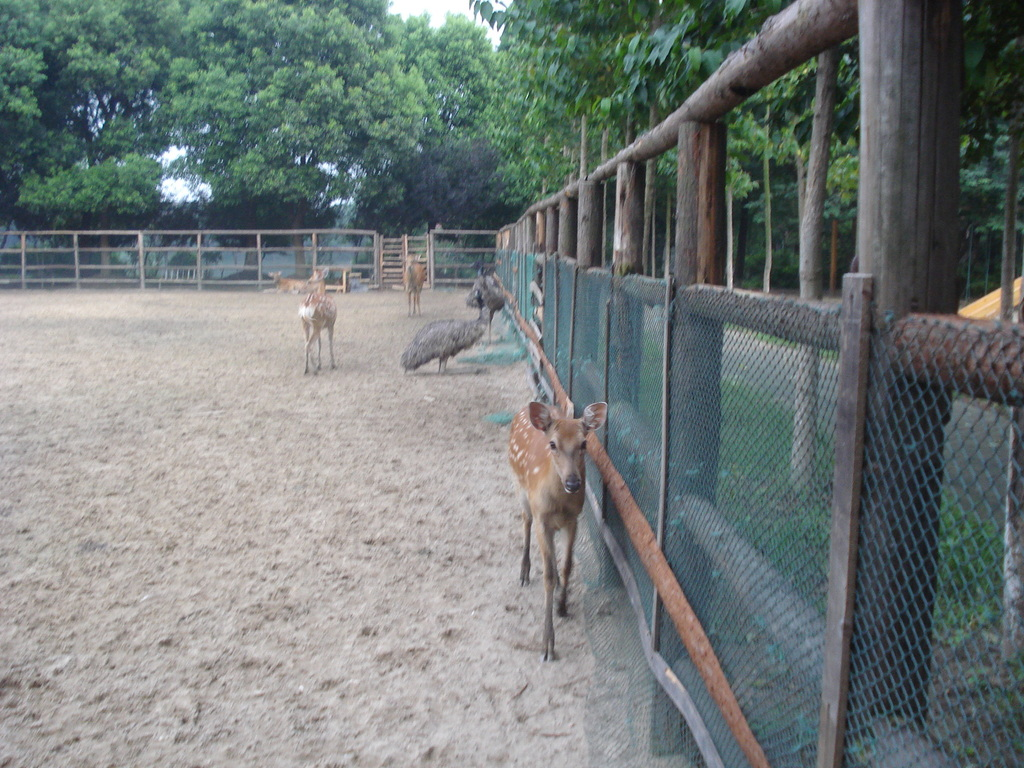Animal: (493, 381, 619, 640), (404, 286, 491, 372), (300, 266, 336, 378), (464, 267, 505, 309), (404, 261, 427, 317)
